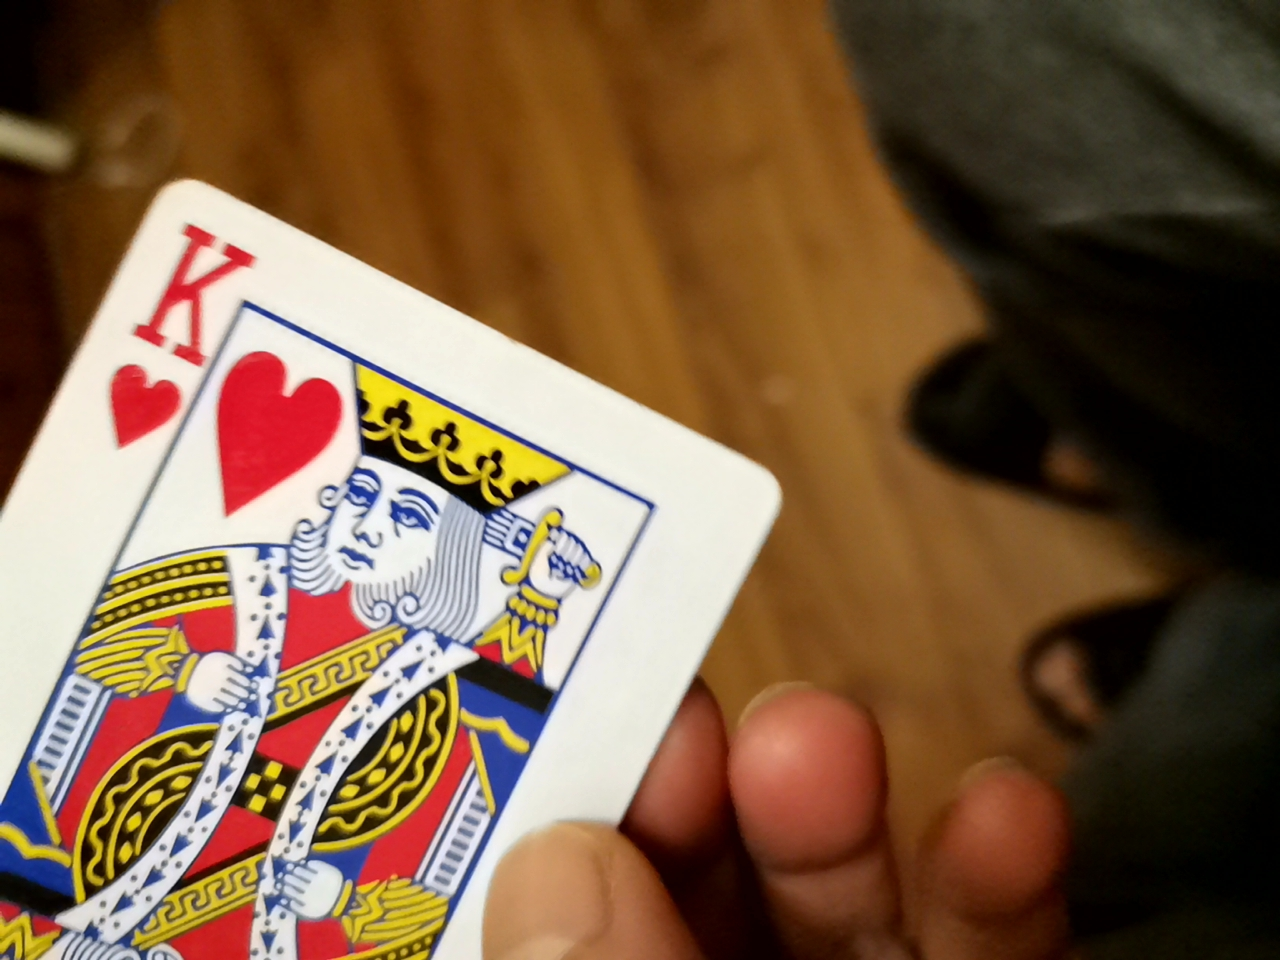hx k: (17, 182, 793, 960)
